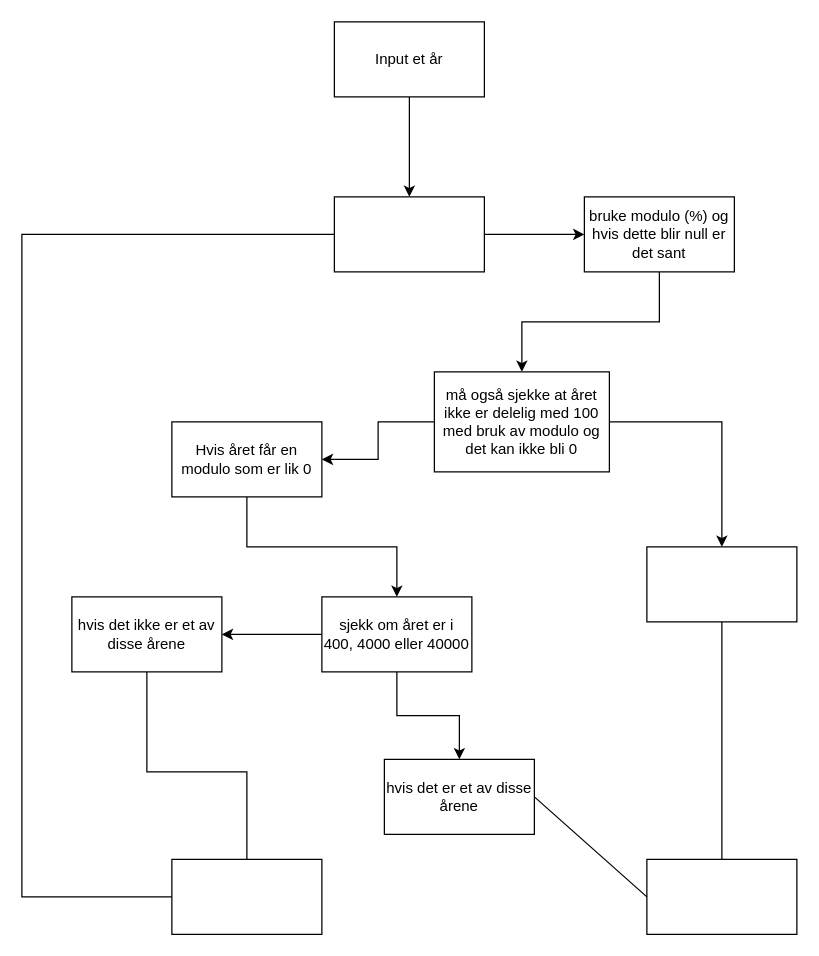
Some shapes in this 819 by 956 pixel diagram are drawn without their labels. Here are the shapes that lost their labels. From the top down, the centre of each, then its label:
At point (408, 234): "sjekke om dette året er deleig med fire".
At point (721, 584): "Hvis modulo ikke blir 0".
At point (246, 896): "året er ikke et skuddår".
At point (721, 896): "Året er et skuddår".
